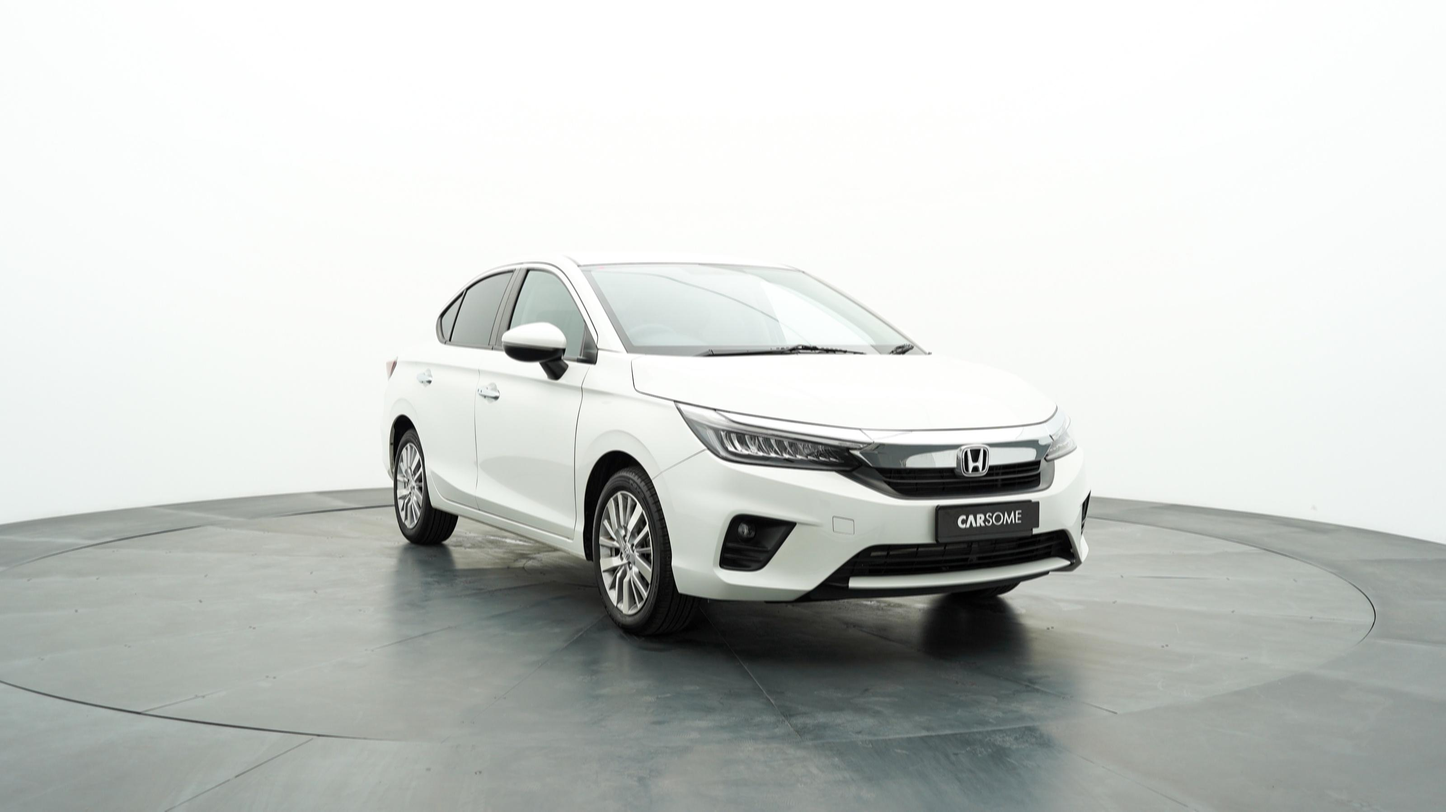Car hood: (628, 348, 1058, 441)
Driver-s door - -F-R-: (460, 251, 588, 558)
Fender - -F-R-: (567, 326, 707, 551)
Front bumper: (645, 445, 1104, 607)
Headlight - -L-: (1038, 413, 1091, 468)
Headlight - -R-: (676, 398, 869, 475)
Passenger-s door - -R-R-: (400, 246, 526, 546)
Side bumper - -R-: (419, 446, 585, 561)
Side mirror - -R-: (501, 309, 569, 394)
